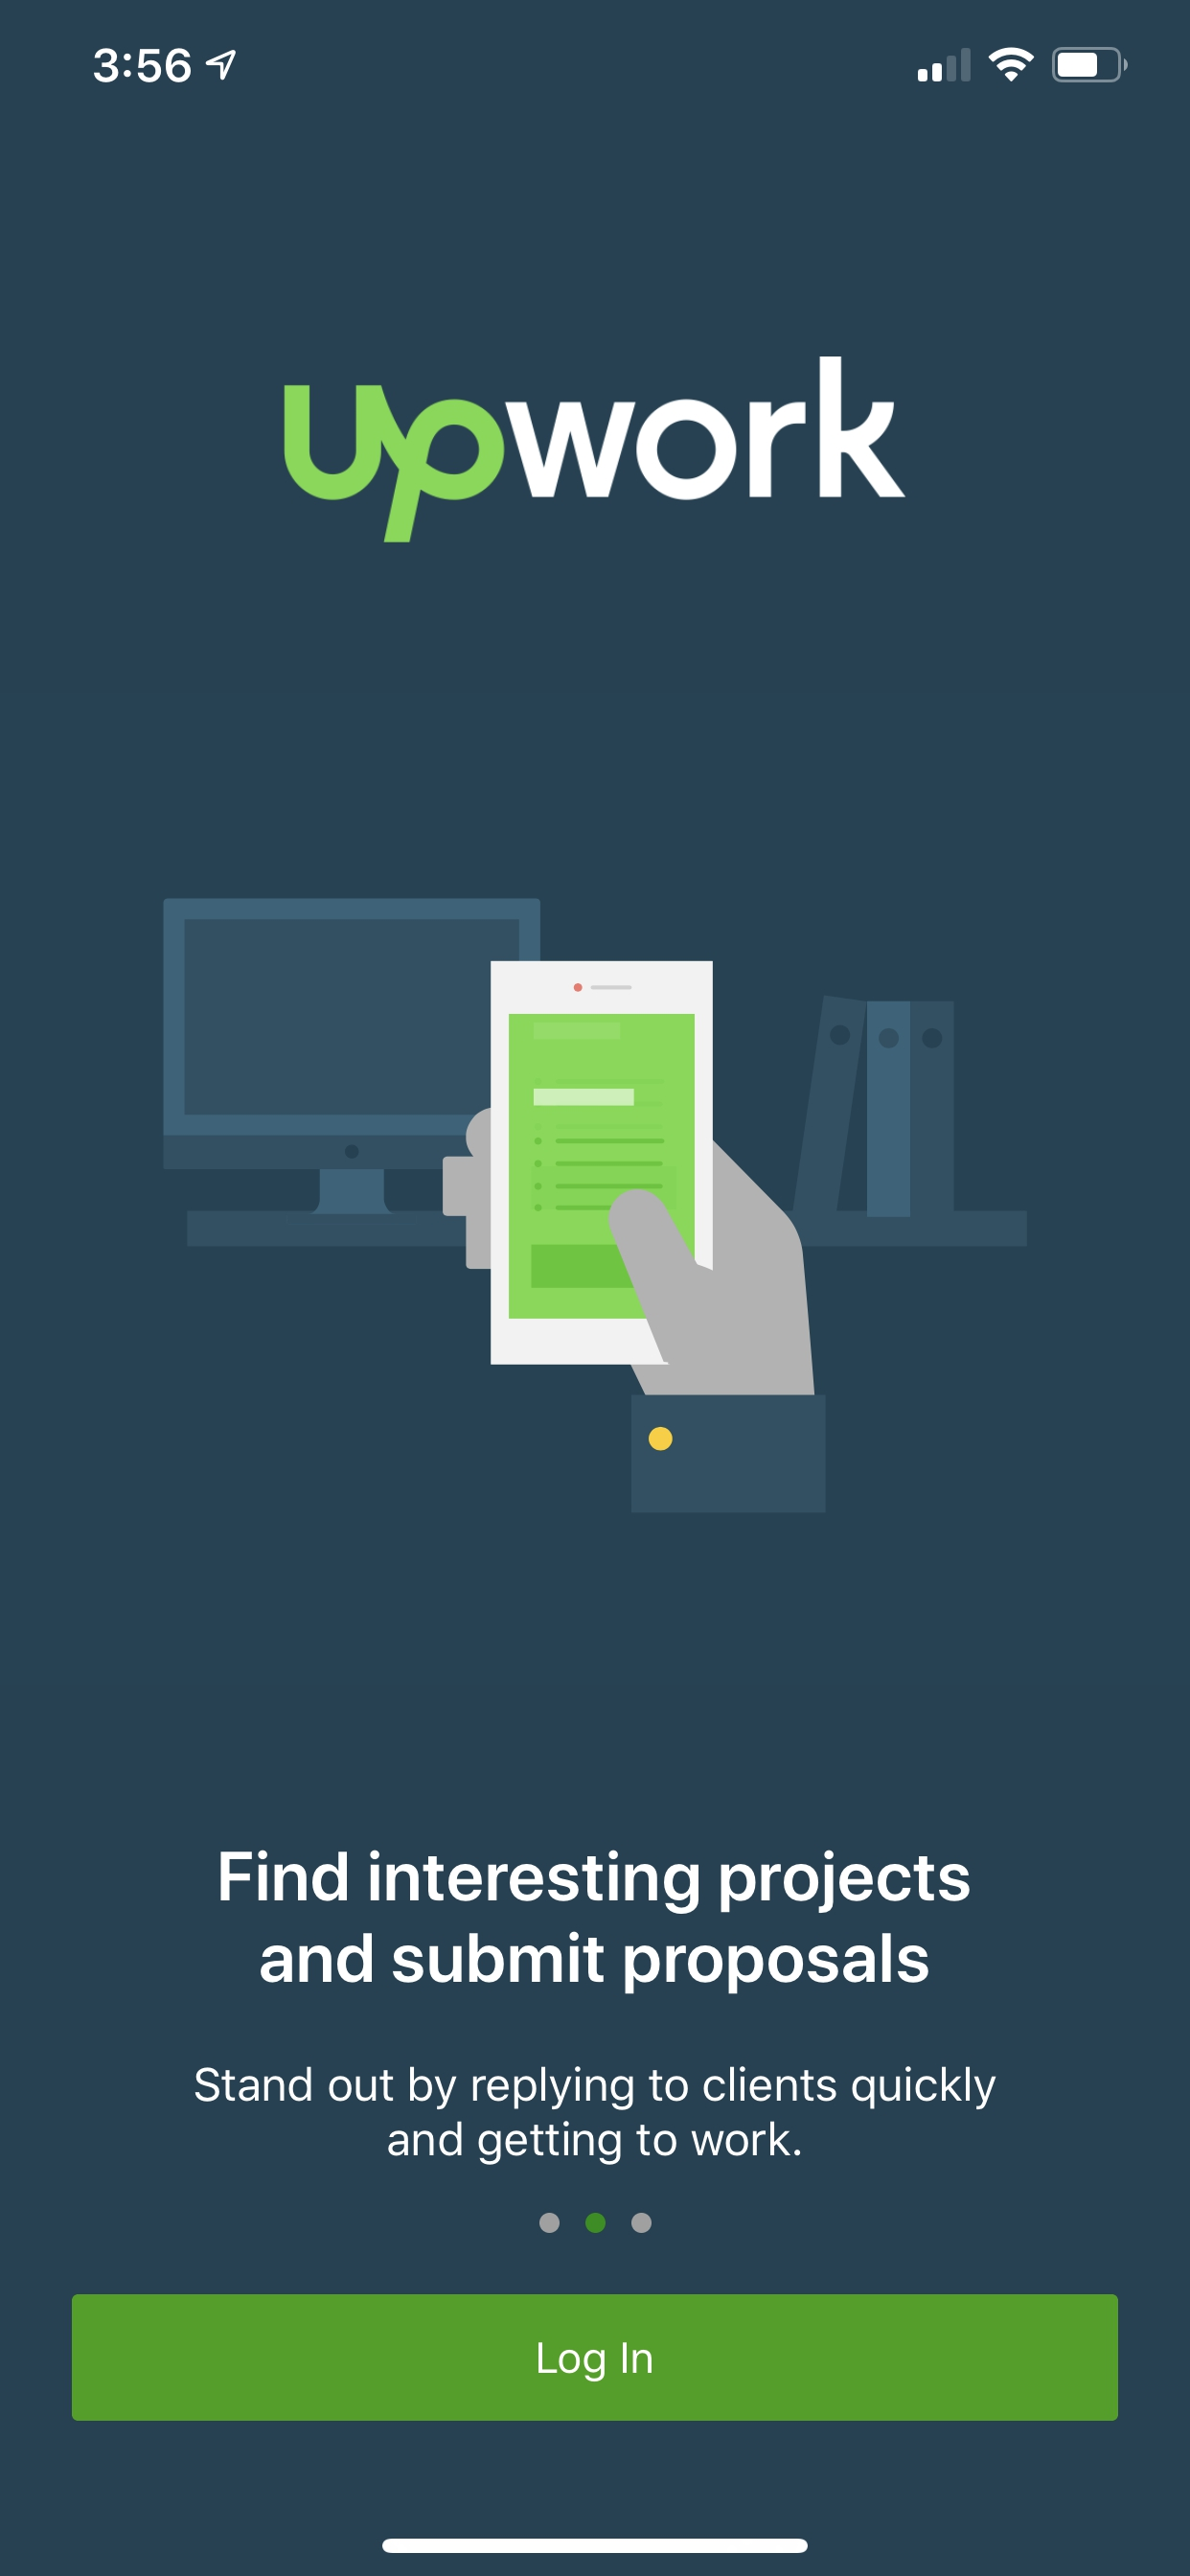Image: (163, 899, 1027, 1513), (284, 356, 906, 544)
PageIndicator: (539, 2211, 651, 2233)
Text: (220, 1848, 970, 1994), (194, 2065, 996, 2165)
TextButton: (71, 2293, 1118, 2422)
UpperTaskBar: (94, 48, 1128, 84)
